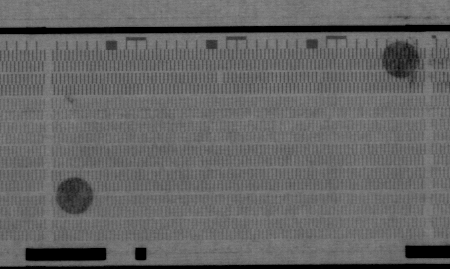Broken hole: (215, 71, 226, 85)
